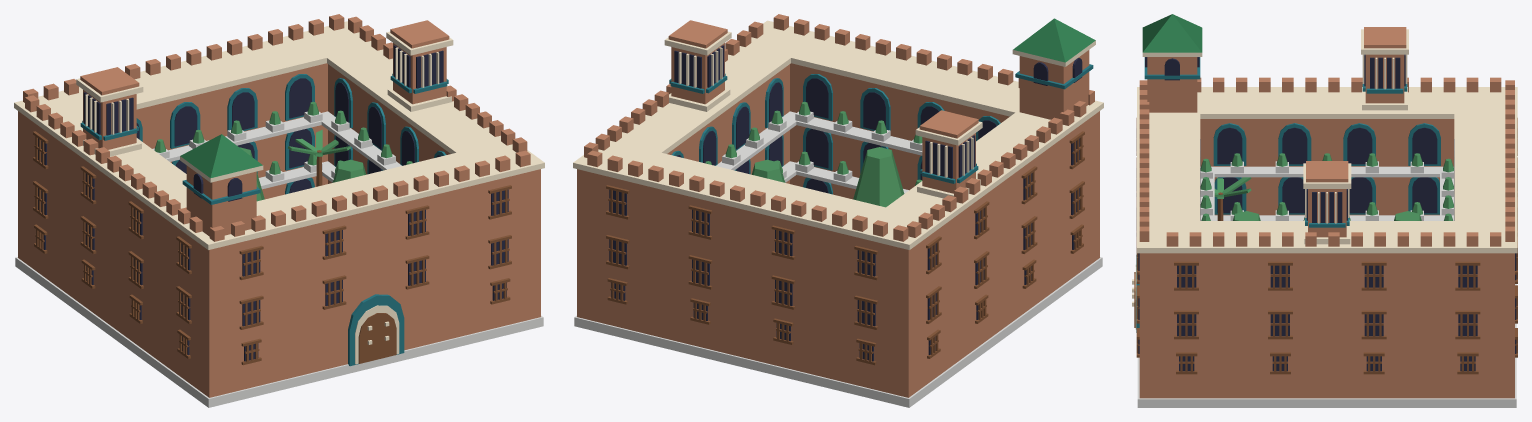
The model's file is house-2x2-3f-riad-a.glb.
3 renders of one model, left to right at view 1: azimuth 30°, elevation 25°; view 2: azimuth 150°, elevation 25°; view 3: azimuth 270°, elevation 25°, orthographic. The views are drawn at different scales.
Visible parts, largest first — view 1: house-2x2-3f-riad-a; view 2: house-2x2-3f-riad-a; view 3: house-2x2-3f-riad-a.
Boxes of the visible parts, left/top/right/bottom form: house-2x2-3f-riad-a: left=14, top=14, right=544, bottom=407; house-2x2-3f-riad-a: left=573, top=14, right=1103, bottom=407; house-2x2-3f-riad-a: left=1132, top=14, right=1517, bottom=407.
Bounding box in the file's own units: 1.98 × 1.42 × 2.01.
Materials: 1 (1 with a texture image).
